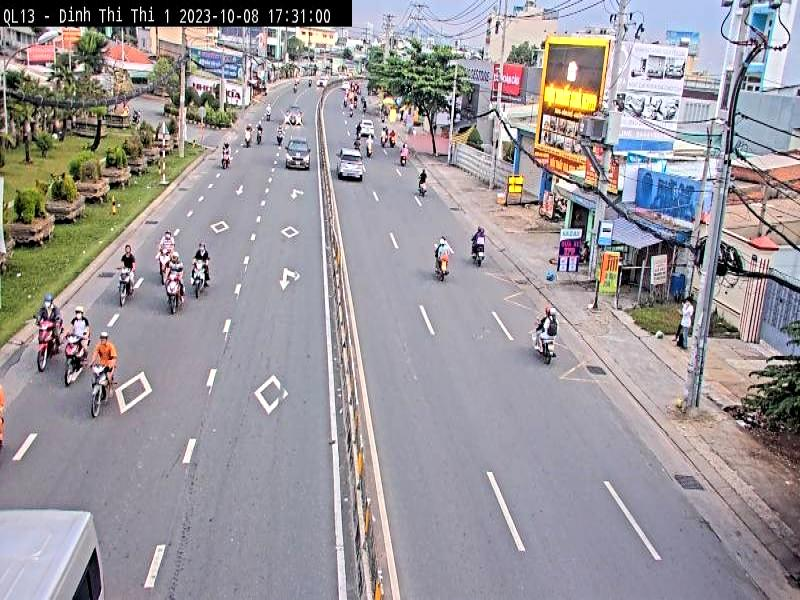car: (337, 152, 366, 185), (285, 142, 314, 169)
motorcycle: (88, 361, 110, 416), (62, 332, 84, 385), (34, 317, 55, 372), (165, 275, 181, 312), (119, 266, 131, 303)
